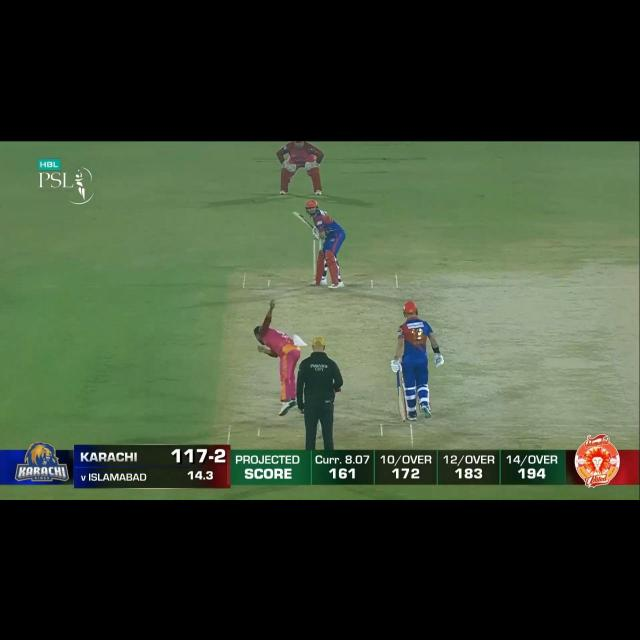bat: (393, 386, 410, 424), (293, 210, 314, 230)
toe: (290, 210, 301, 218), (400, 413, 409, 422)
